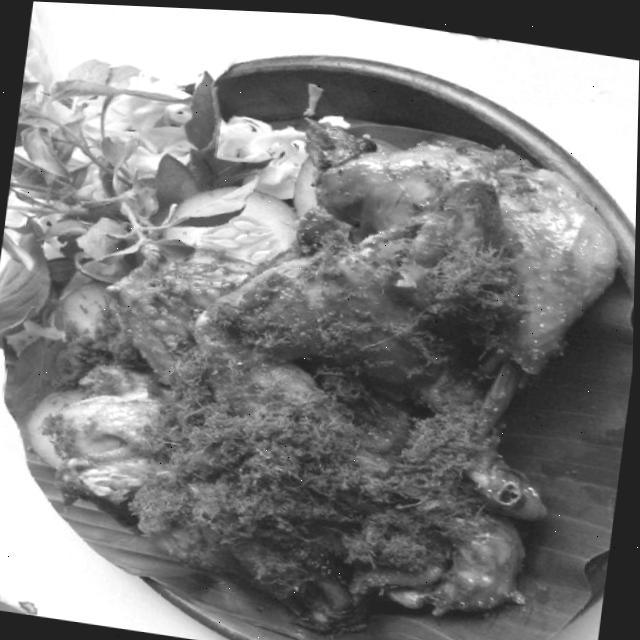鸡肉料理 含炸鸡: (65, 50, 639, 640)
